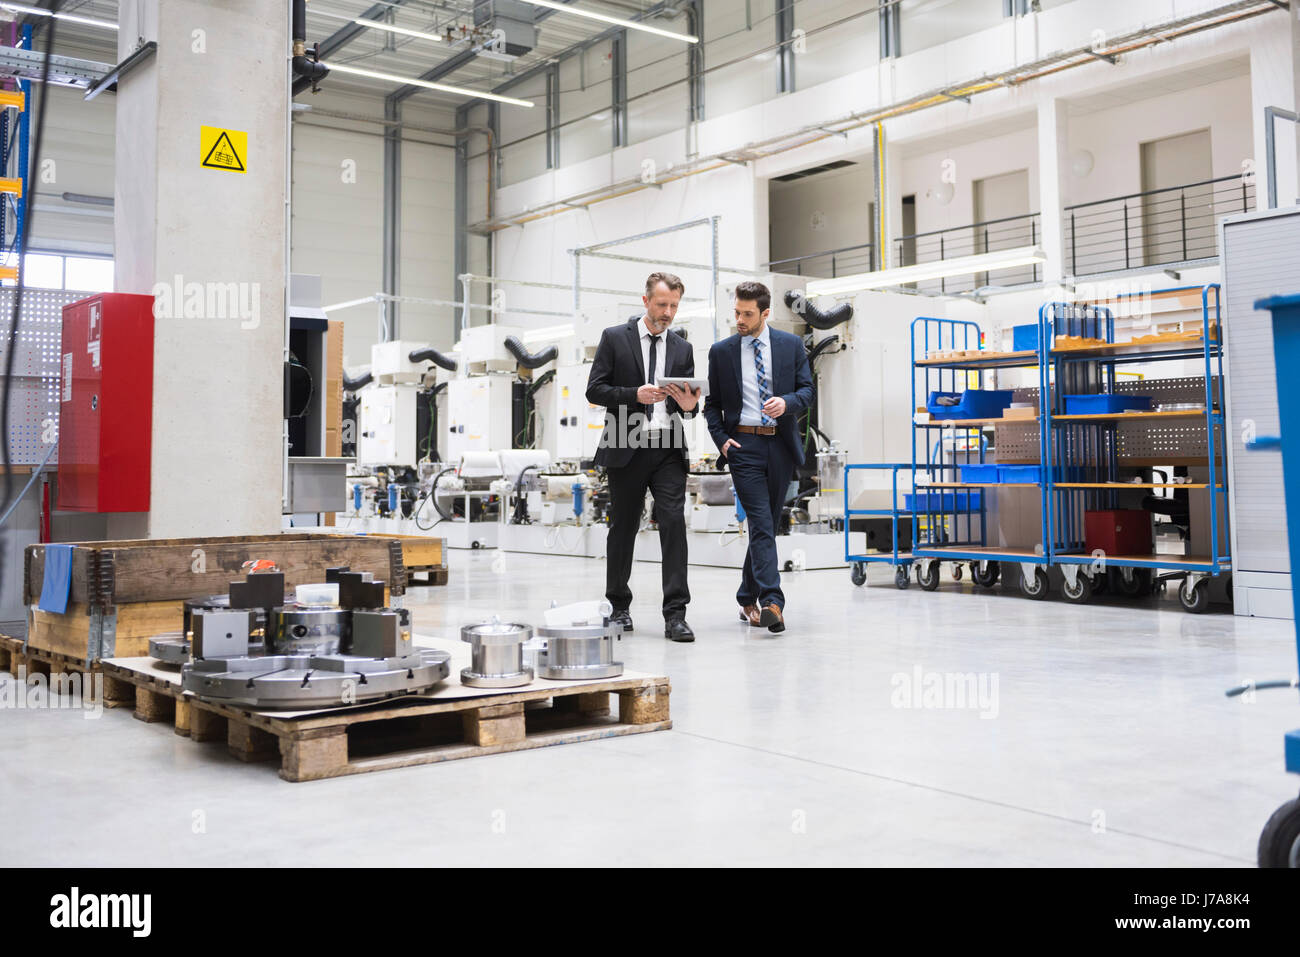person: (592, 274, 693, 643), (706, 286, 813, 632)
